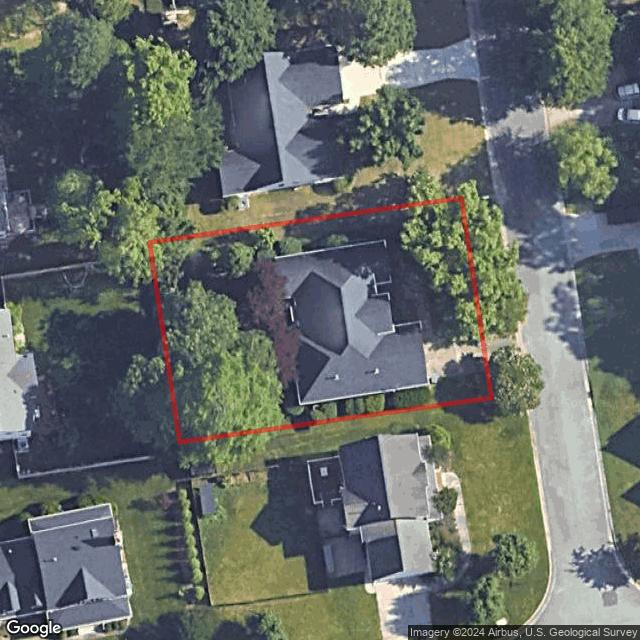Driveway: (421, 332, 488, 381)
Extra-Driveway: (481, 328, 519, 371)
Extra-Lawn: (461, 193, 514, 332), (488, 366, 526, 397)
House: (271, 238, 430, 406)
Lawn: (149, 199, 491, 442)
Other: (281, 385, 434, 420)
Sidewalk: (391, 298, 433, 340)
